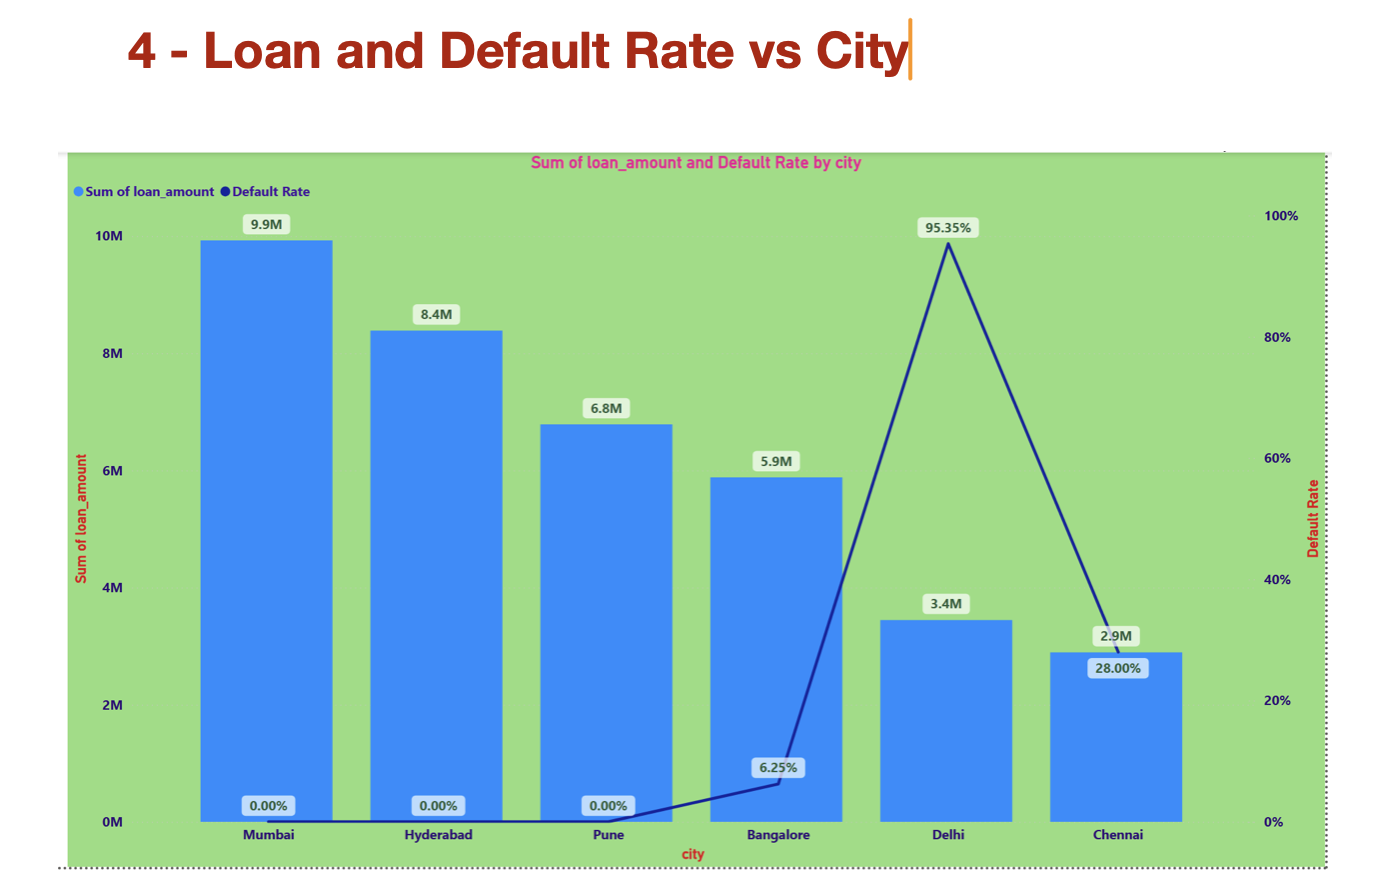

The dashboard page shown, as its layout file describes it:
{"tool":"powerbi","page":{"name":"Page 4","canvas":[1280,720],"ordinal":3},"visuals":[{"type":"lineStackedColumnComboChart","fields":{"Category":["loan_customers_cleaned.city"],"Y":["Sum(loan_customers_cleaned.loan_amount)"],"Y2":["loan_customers_cleaned.Default Rate"]},"box":[12.2,0,1268.1,720],"z":0}]}

Visuals, with their boxes on the page's 1280x720 design canvas (x1, y1, x2, y2). These are canvas units, not pixel positions in the 1388x892 screenshot, which may show the page scaled, cropped or inside an application window:
lineStackedColumnComboChart - loan_customers_cleaned.city x Sum(loan_customers_cleaned.loan_amount): crop(12, 0, 1280, 720)
